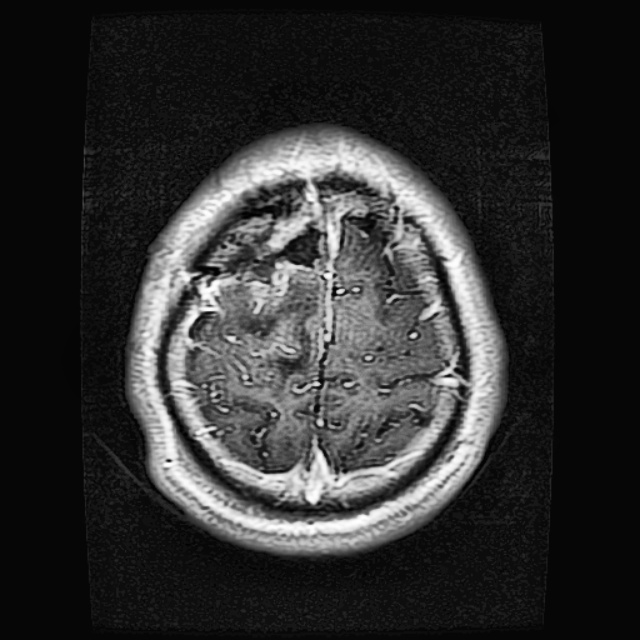Glioma: (203, 202, 329, 284)
